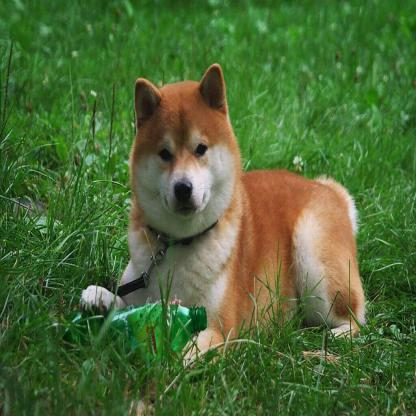Siba-ny: (76, 61, 371, 368)
